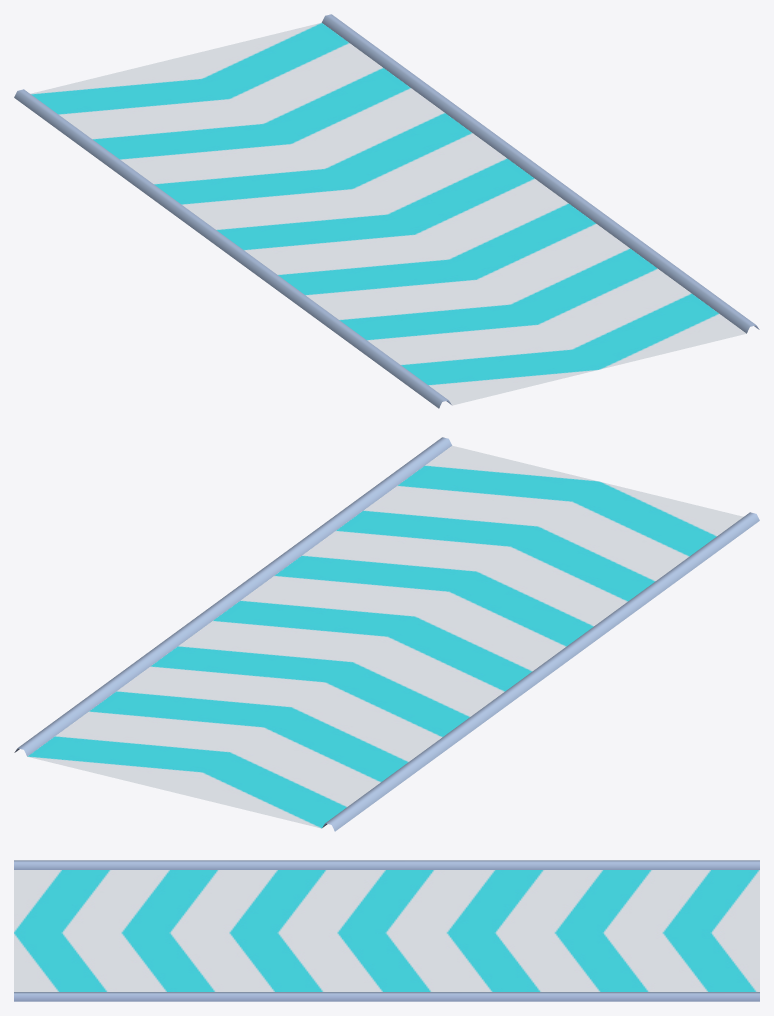
Rendered from Floor_1.FBX.
3 renders of one model, top to bottom at view 1: azimuth 30°, elevation 25°; view 2: azimuth 150°, elevation 25°; view 3: azimuth 270°, elevation 25°, orthographic. The views are drawn at different scales.
Parts seen in each view (by area): view 1: Floor_1; view 2: Floor_1; view 3: Floor_1.
Boxes of the visible parts, left/top/right/bottom form: Floor_1: left=14, top=14, right=759, bottom=408; Floor_1: left=14, top=437, right=759, bottom=831; Floor_1: left=14, top=860, right=759, bottom=1001.
Size of the model in its own units: 8.72 by 0.1571 by 20.
